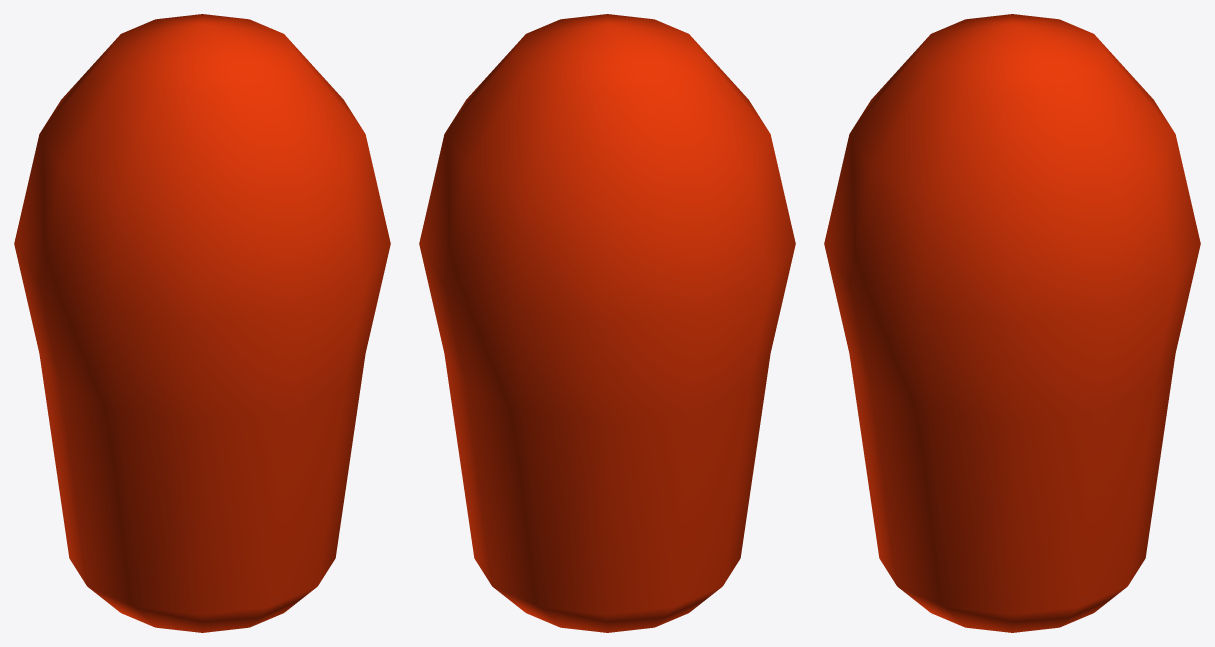
The model's file is Small_Led_Bulb.fbx.
3 renders of one model, left to right at view 1: azimuth 30°, elevation 25°; view 2: azimuth 150°, elevation 25°; view 3: azimuth 270°, elevation 25°, orthographic.
Visible parts, largest first — view 1: Small_Led_Bulb; view 2: Small_Led_Bulb; view 3: Small_Led_Bulb.
Part boxes in pixels (bbox=[...]): Small_Led_Bulb: bbox=[14, 14, 390, 632]; Small_Led_Bulb: bbox=[419, 14, 795, 632]; Small_Led_Bulb: bbox=[824, 14, 1200, 632].
Size of the model in its own units: 1.04 by 1.83 by 1.04.
